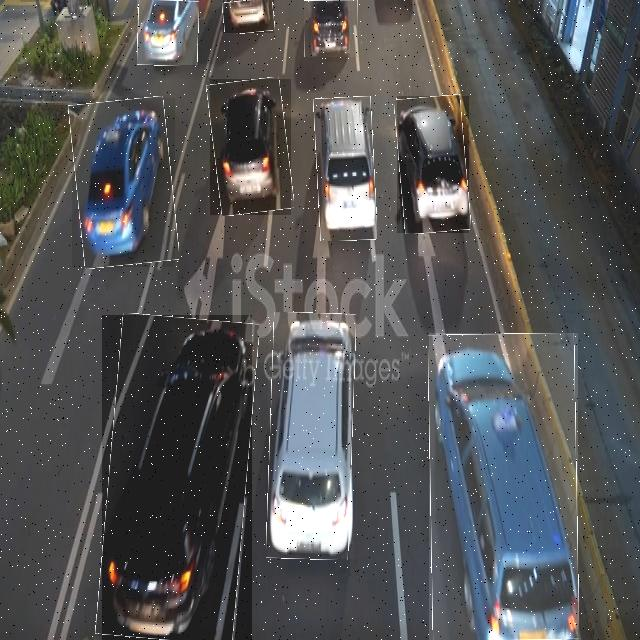Car: (102, 315, 252, 640), (429, 333, 578, 640), (268, 313, 354, 559), (72, 98, 175, 267), (210, 79, 291, 215), (397, 96, 469, 233), (315, 97, 376, 240), (137, 0, 198, 65), (304, 0, 358, 57), (223, 0, 274, 33)
